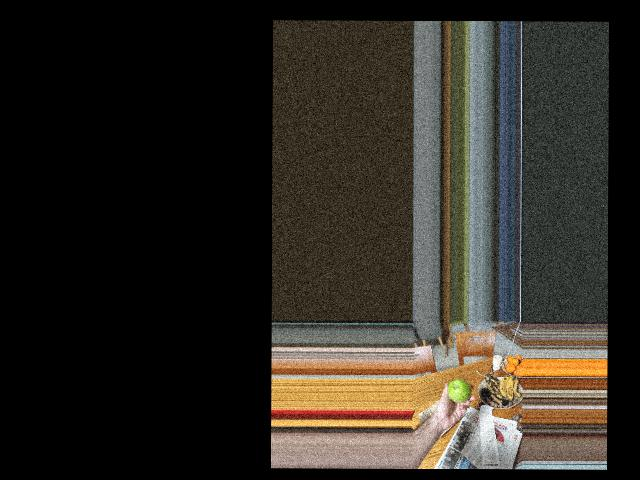apple: (446, 377, 471, 402)
